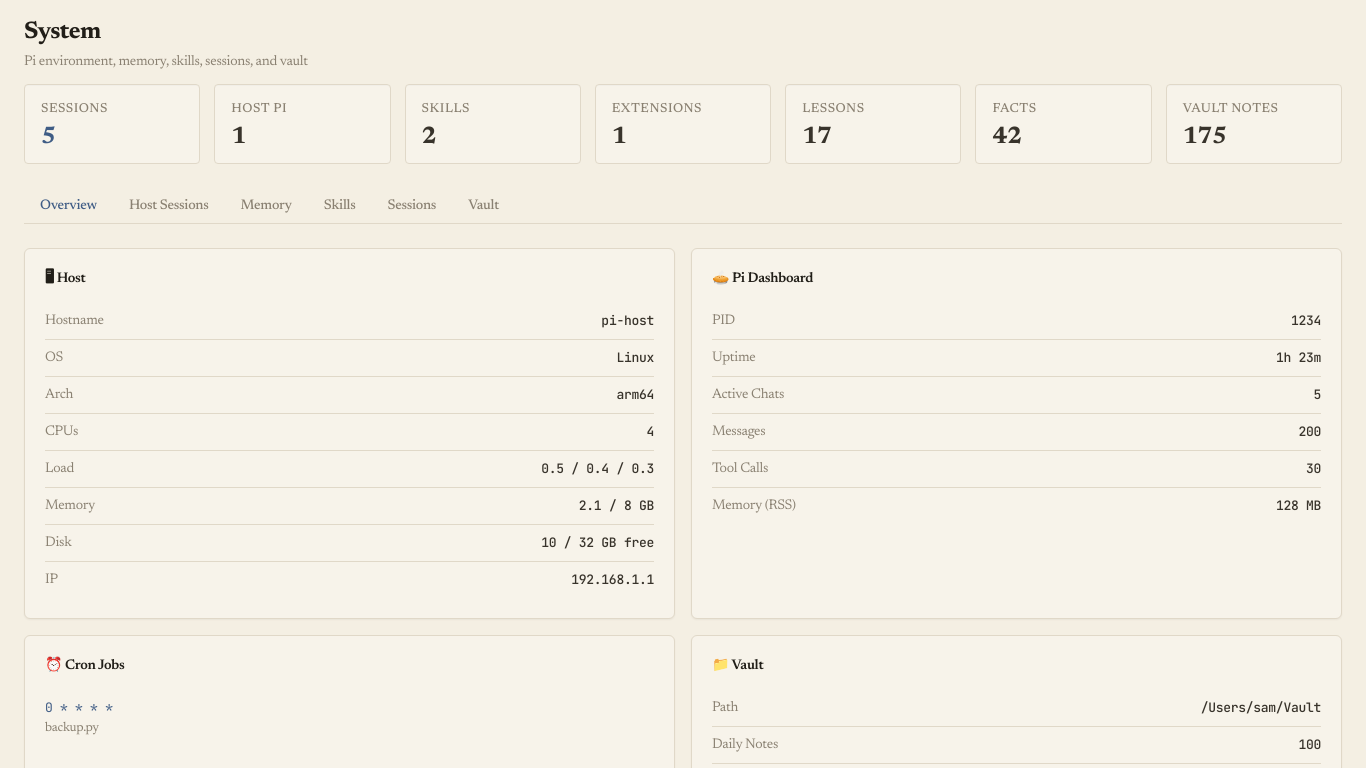
SystemPage — tab switching › clicking Memory tab shows memory content
Click the button "Memory". click: click(266, 206)
box: [224,188,308,224]
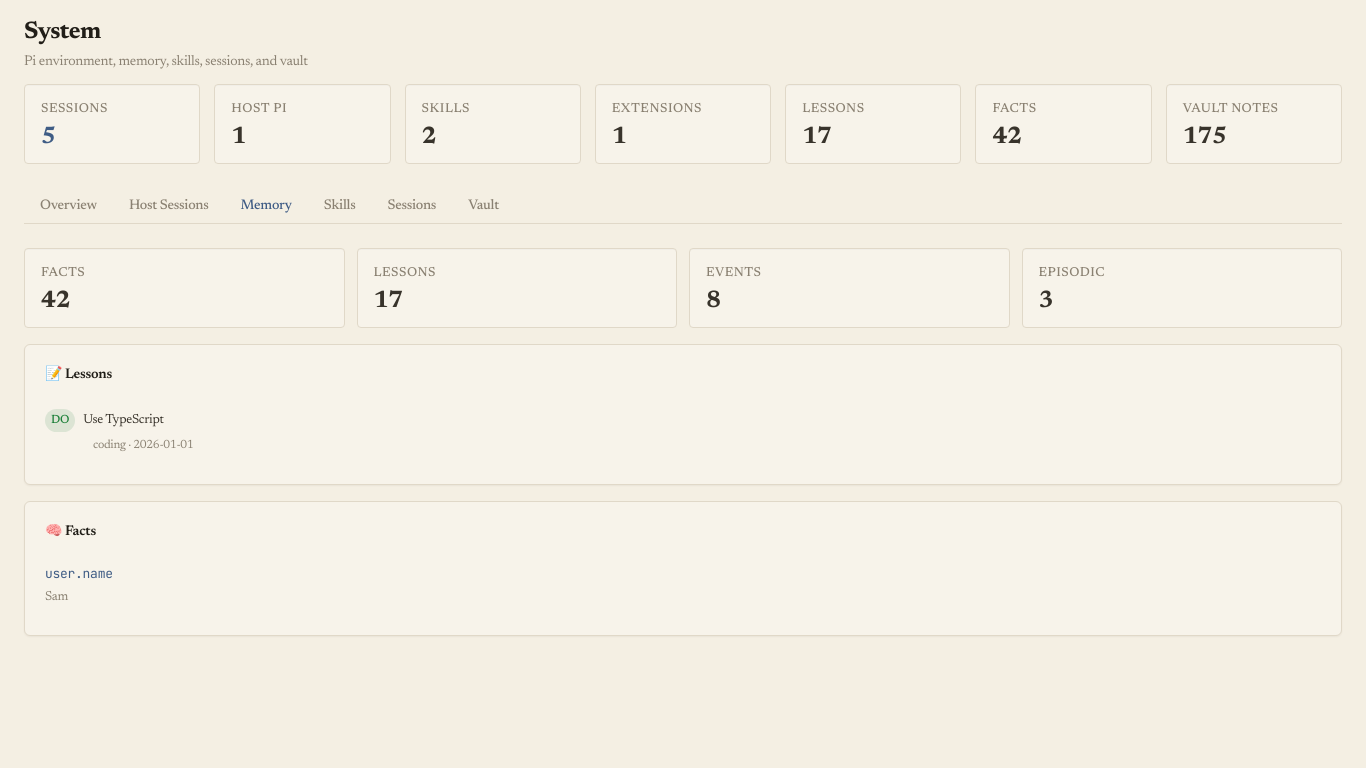
Expected: the heading "📝 Lessons" is shown, [45,368,112,382]
